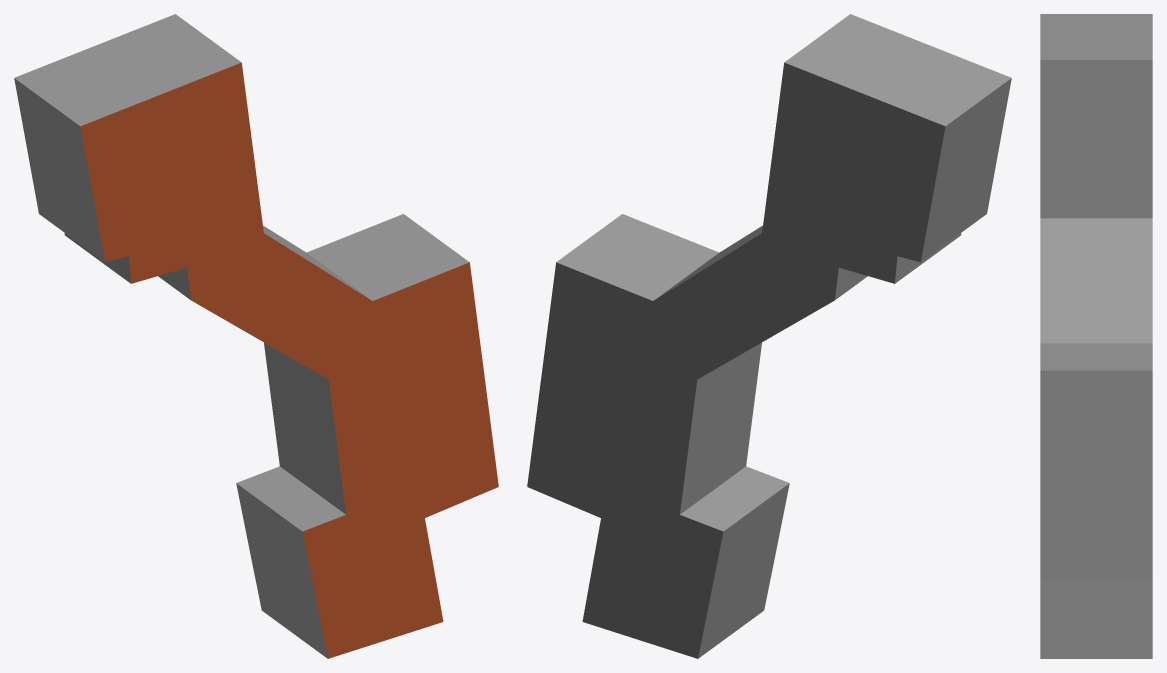
Rendered from construction_5801_assumed_A_Casa_h6m.obj.
The picture shows the model from 3 angles, left to right: view 1: azimuth 30°, elevation 25°; view 2: azimuth 150°, elevation 25°; view 3: azimuth 270°, elevation 25°; orthographic projection. The views are drawn at different scales.
Visible parts, largest first — view 1: construction_5801_assumed_A_Casa; view 2: construction_5801_assumed_A_Casa; view 3: construction_5801_assumed_A_Casa.
Boxes of the visible parts, bbox=[...] form: construction_5801_assumed_A_Casa: bbox=[14, 14, 498, 658]; construction_5801_assumed_A_Casa: bbox=[527, 14, 1011, 658]; construction_5801_assumed_A_Casa: bbox=[1040, 14, 1152, 658].
Size of the model in its own units: 21.87 by 30.84 by 6.
